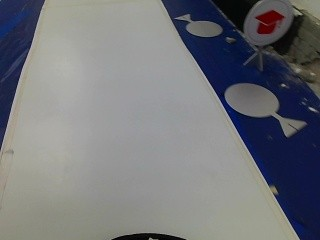school: (246, 0, 292, 50)
